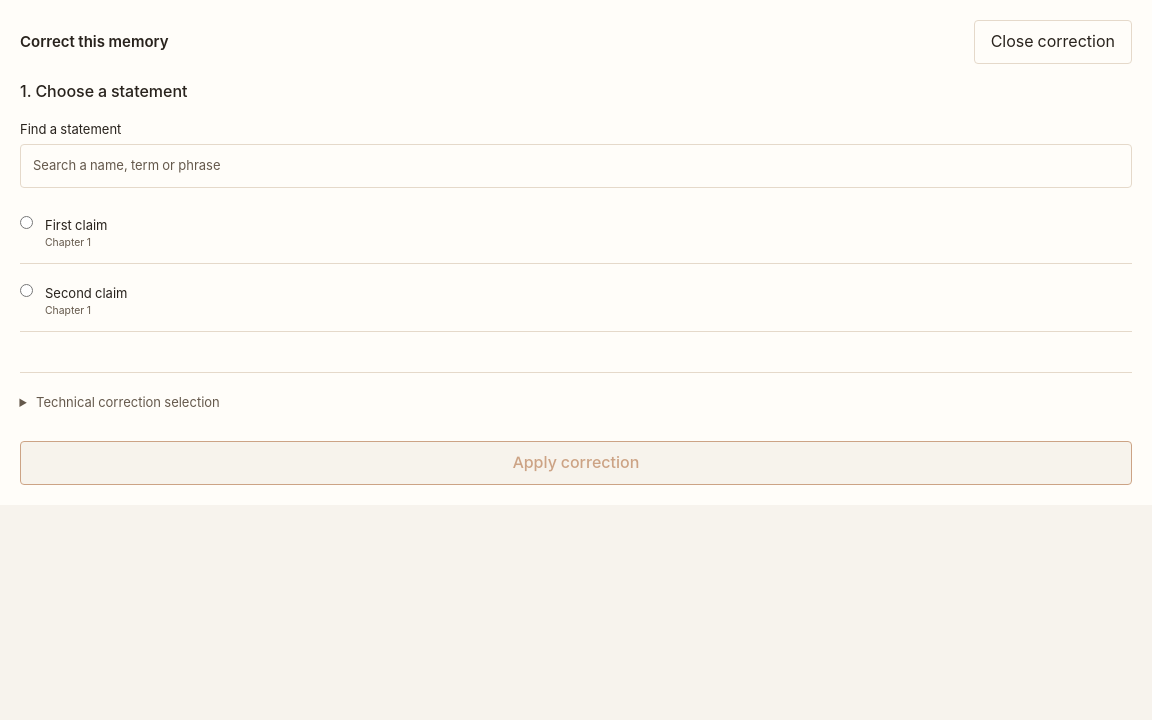
Scenario: stale selection remains visible and is never silently refreshed
Expected: the text "First claim" is shown, [45,216,108,234]
Click the radio button labelled "First claim Chapter 1" at [26, 222], box [20,216,33,228]
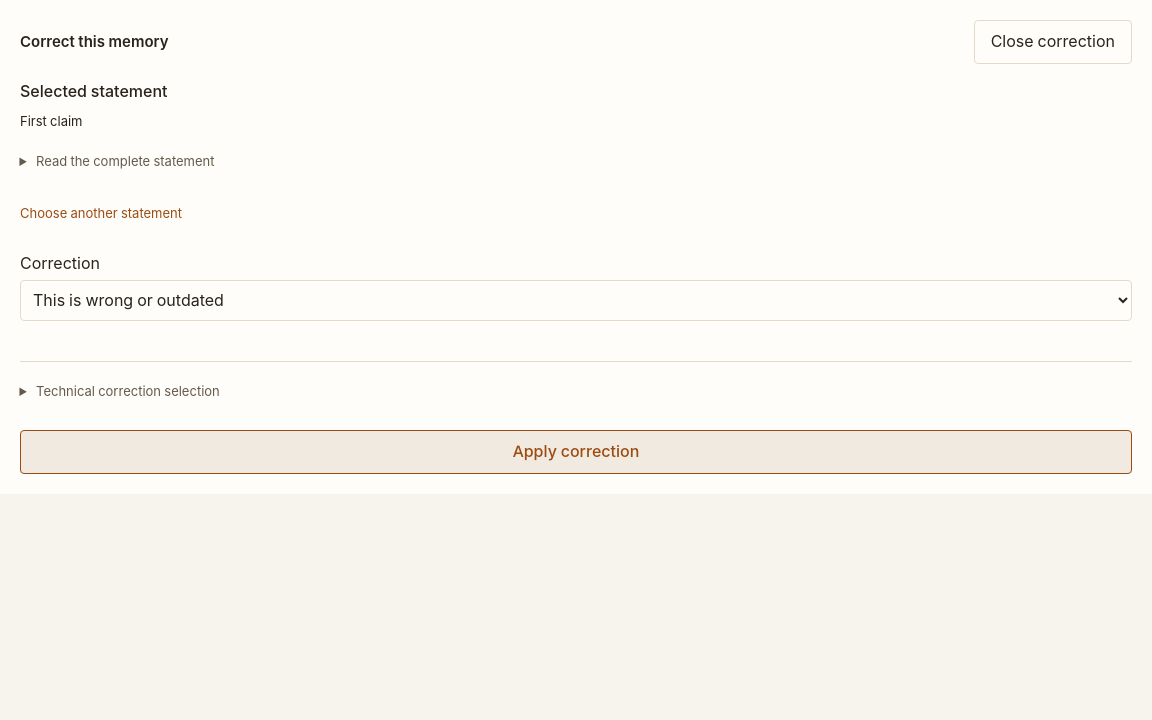
Click the button "Apply correction" at [576, 452], box [20,430,1132,474]
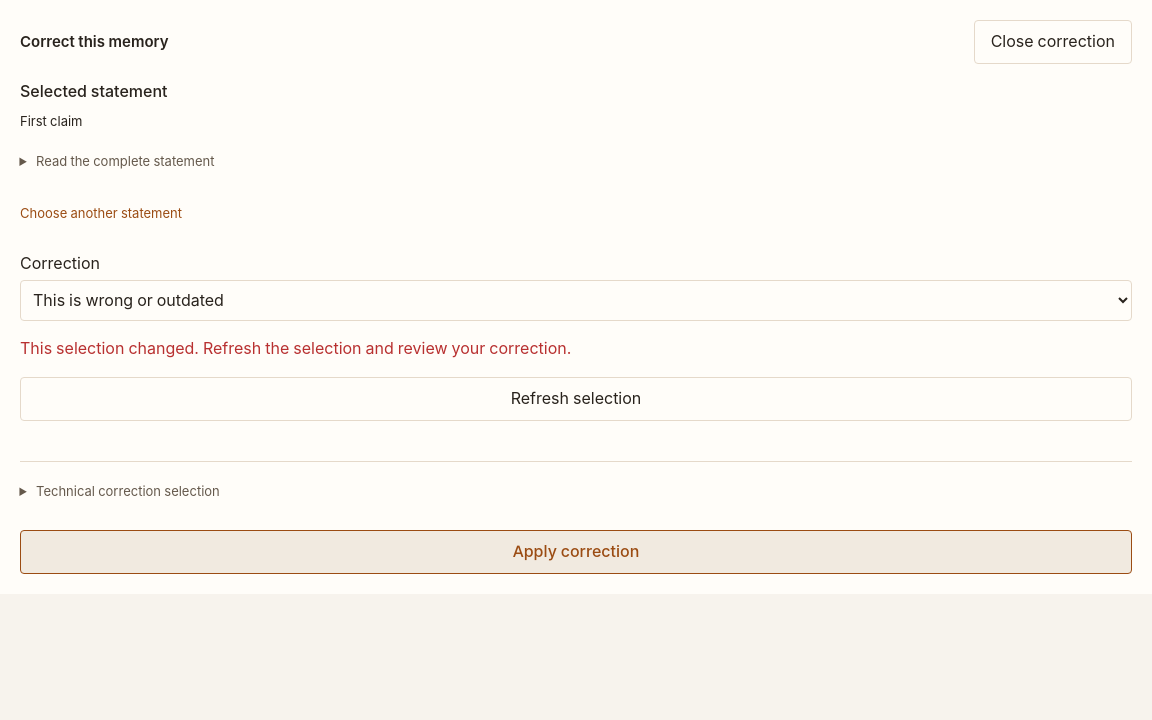
Expected: the text "This selection changed. Refresh the selection and review your correction." is shown, [20,338,571,358]
